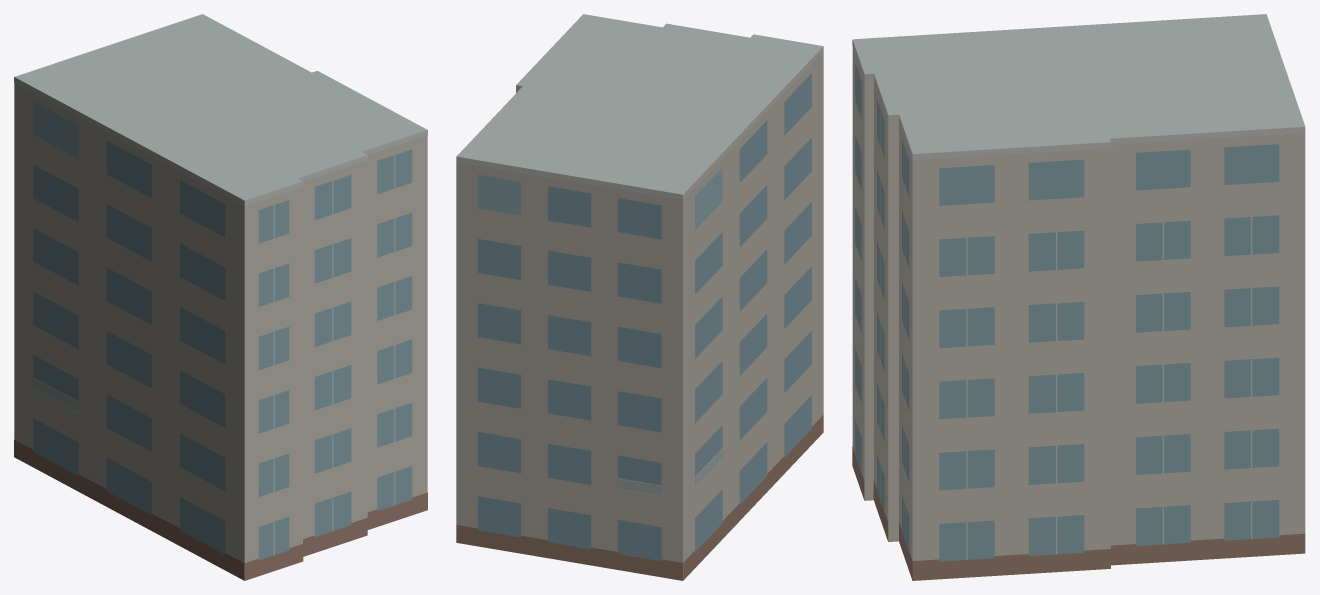
The model's file is survey-upis-32664982.glb.
The picture shows the model from 3 angles, left to right: view 1: azimuth 30°, elevation 25°; view 2: azimuth 150°, elevation 25°; view 3: azimuth 270°, elevation 25°; orthographic projection. The views are drawn at different scales.
Parts seen in each view (by area): view 1: survey-upis-32664982.tmp; view 2: survey-upis-32664982.tmp; view 3: survey-upis-32664982.tmp.
Part boxes in pixels (x1,y1,x2,y2): survey-upis-32664982.tmp: (14,14,427,580); survey-upis-32664982.tmp: (456,14,823,580); survey-upis-32664982.tmp: (852,14,1305,580).
Bounding box in the file's own units: 12.13 × 17.2 × 16.56.
